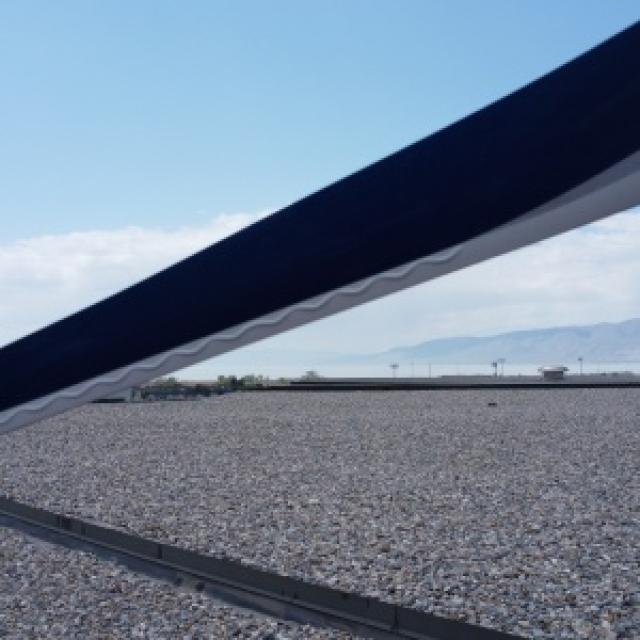healthy: (550, 544, 638, 638)
